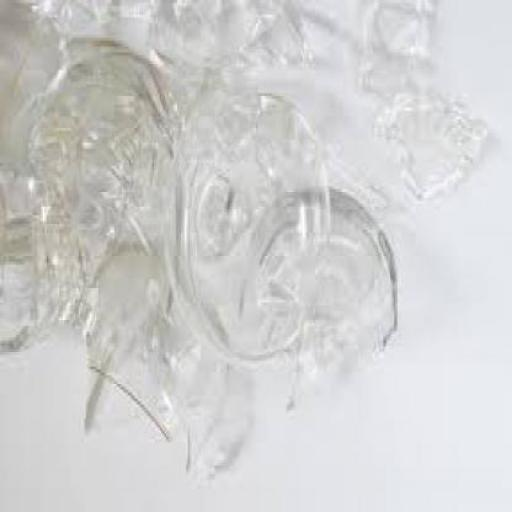glass: (168, 93, 328, 364), (28, 56, 174, 344), (84, 253, 246, 489), (245, 195, 397, 422), (361, 3, 482, 204), (145, 2, 308, 111), (296, 24, 392, 189), (0, 169, 81, 358), (0, 3, 63, 172), (32, 3, 158, 50)
